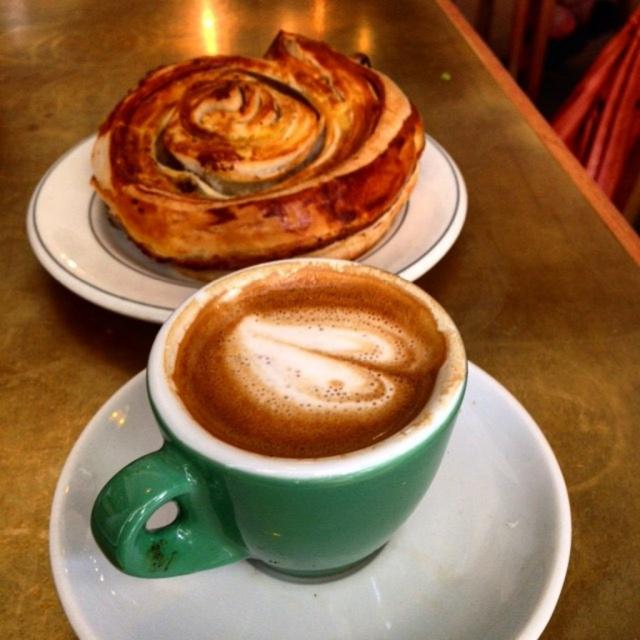latte: (145, 256, 467, 487)
